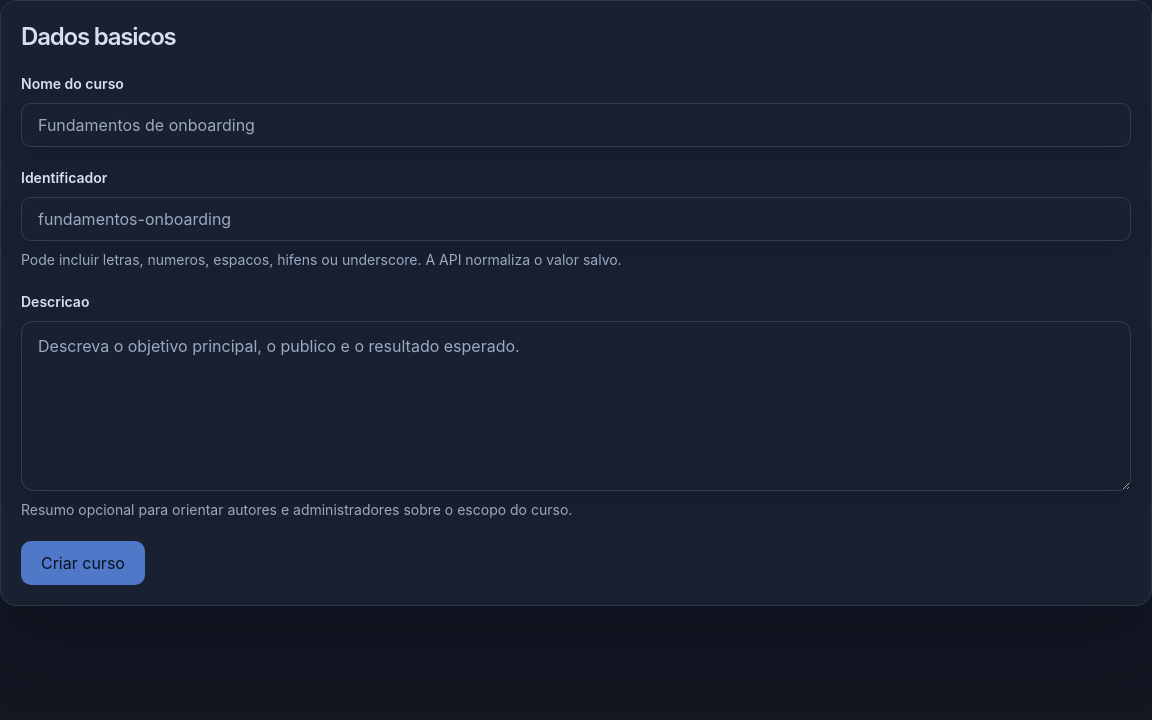
Test case: CourseForm › shows validation messages for required course fields
This screenshot has width=1152, height=720.
Click the button "Criar curso" at (83, 563), box [21, 541, 145, 585]
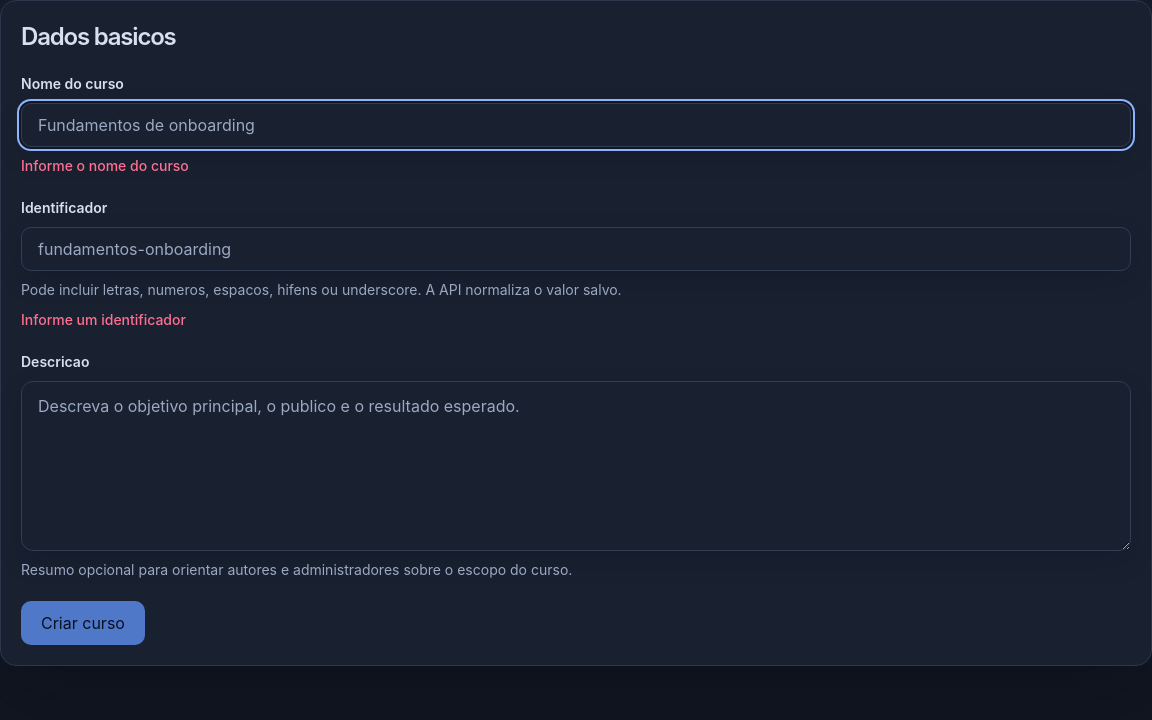
Check: the text "Informe o nome do curso" is shown, box [21, 157, 189, 174]
Check: the text "Informe um identificador" is shown, box [21, 311, 186, 328]
